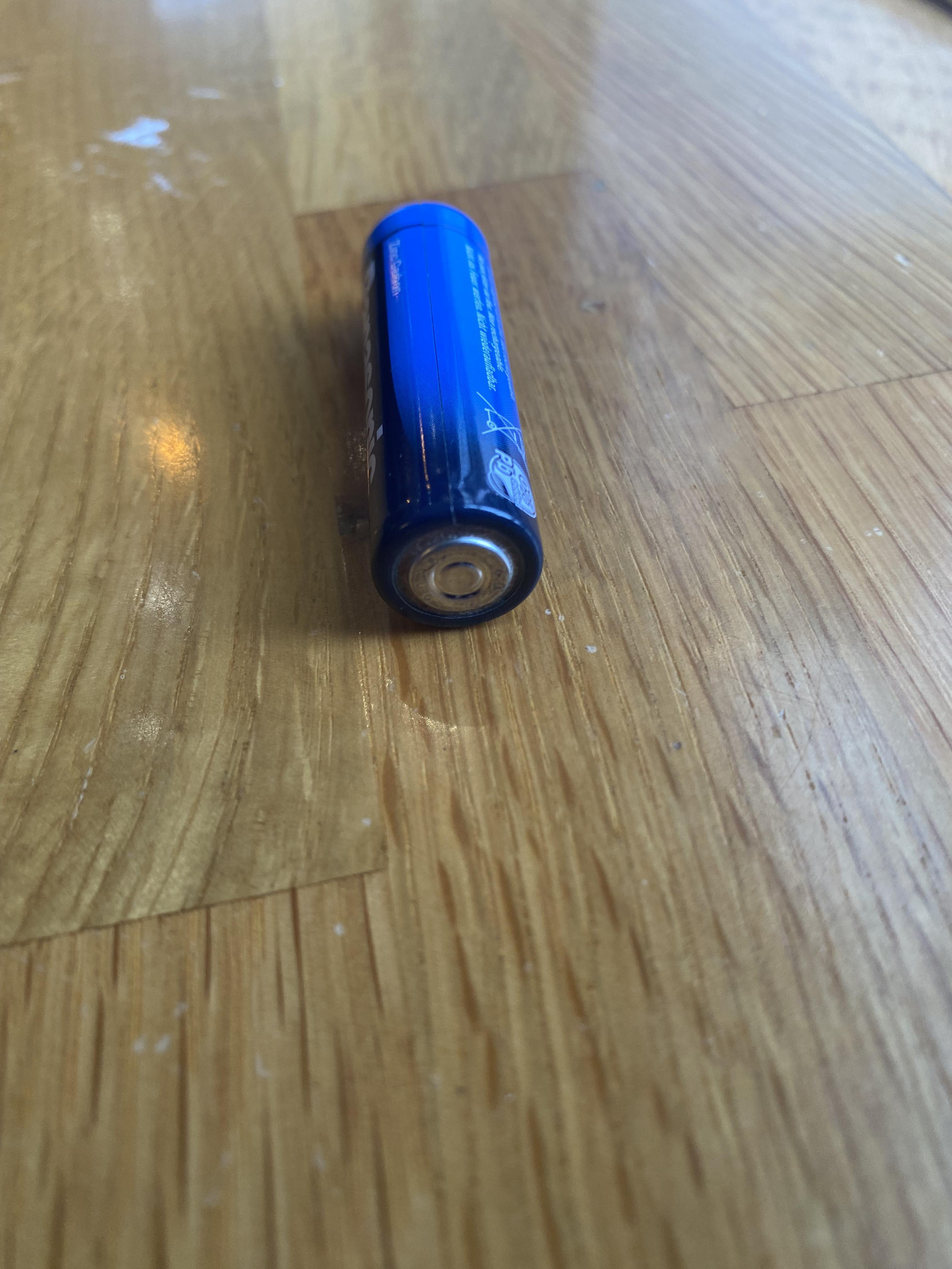AA: (354, 194, 551, 636)
